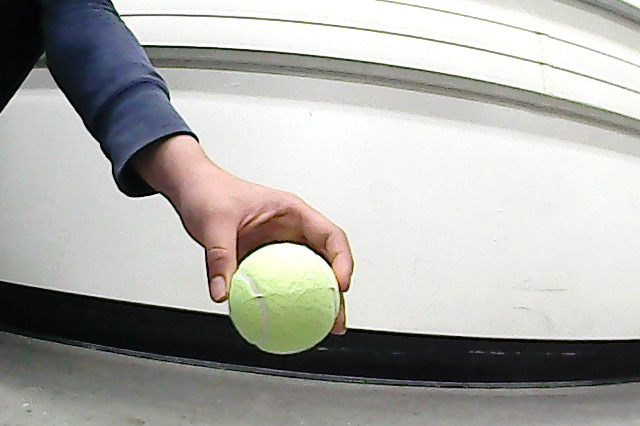ball: (227, 240, 344, 358)
